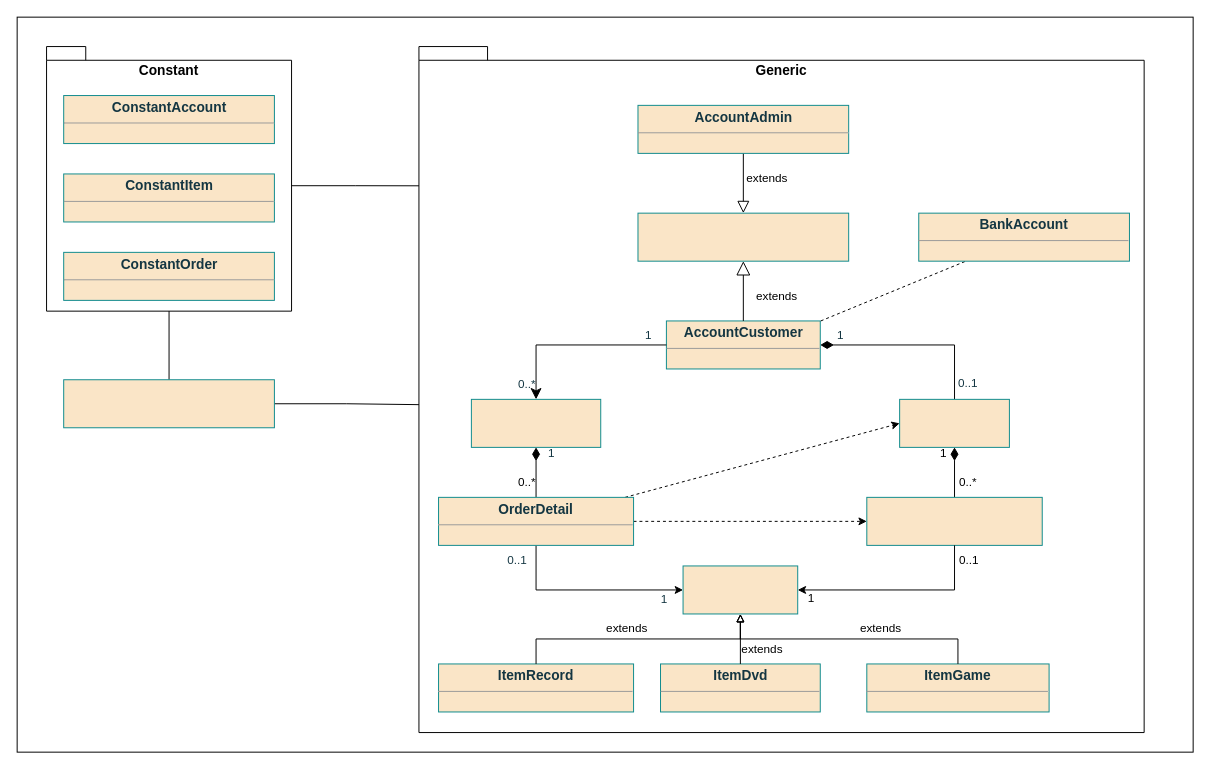
Some shapes in this 1210 by 769 pixel diagram are drawn without their labels. Each missing label, with the box of its shape:
<<Account>>: (637, 212, 849, 261)
<<Item>>: (682, 565, 798, 614)
Cart: (899, 398, 1009, 447)
CartDetail: (866, 496, 1042, 545)
EntityHandler: (63, 379, 274, 428)
Order: (470, 398, 601, 447)
